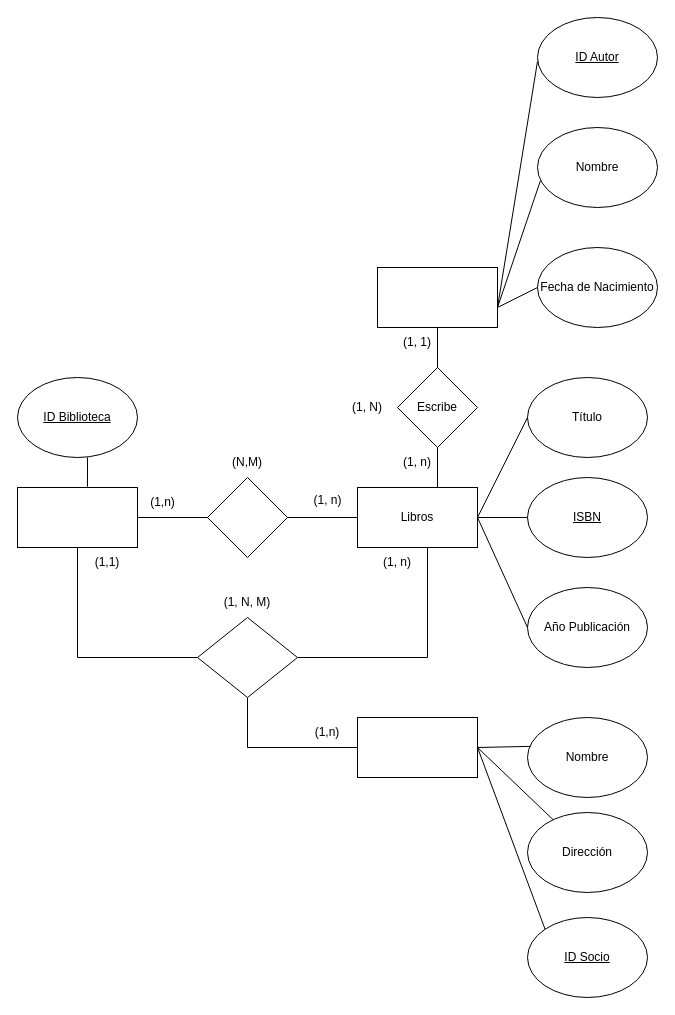
Some shapes in this 675 by 1015 pixel diagram are drawn without their labels. The centre of each missing label's shape, as x and y in pixels:
"Autor" belongs at point (437, 297).
"Biblioteca" belongs at point (77, 517).
"Presta" belongs at point (247, 657).
"Socios" belongs at point (417, 747).
"Tiene" belongs at point (247, 517).
